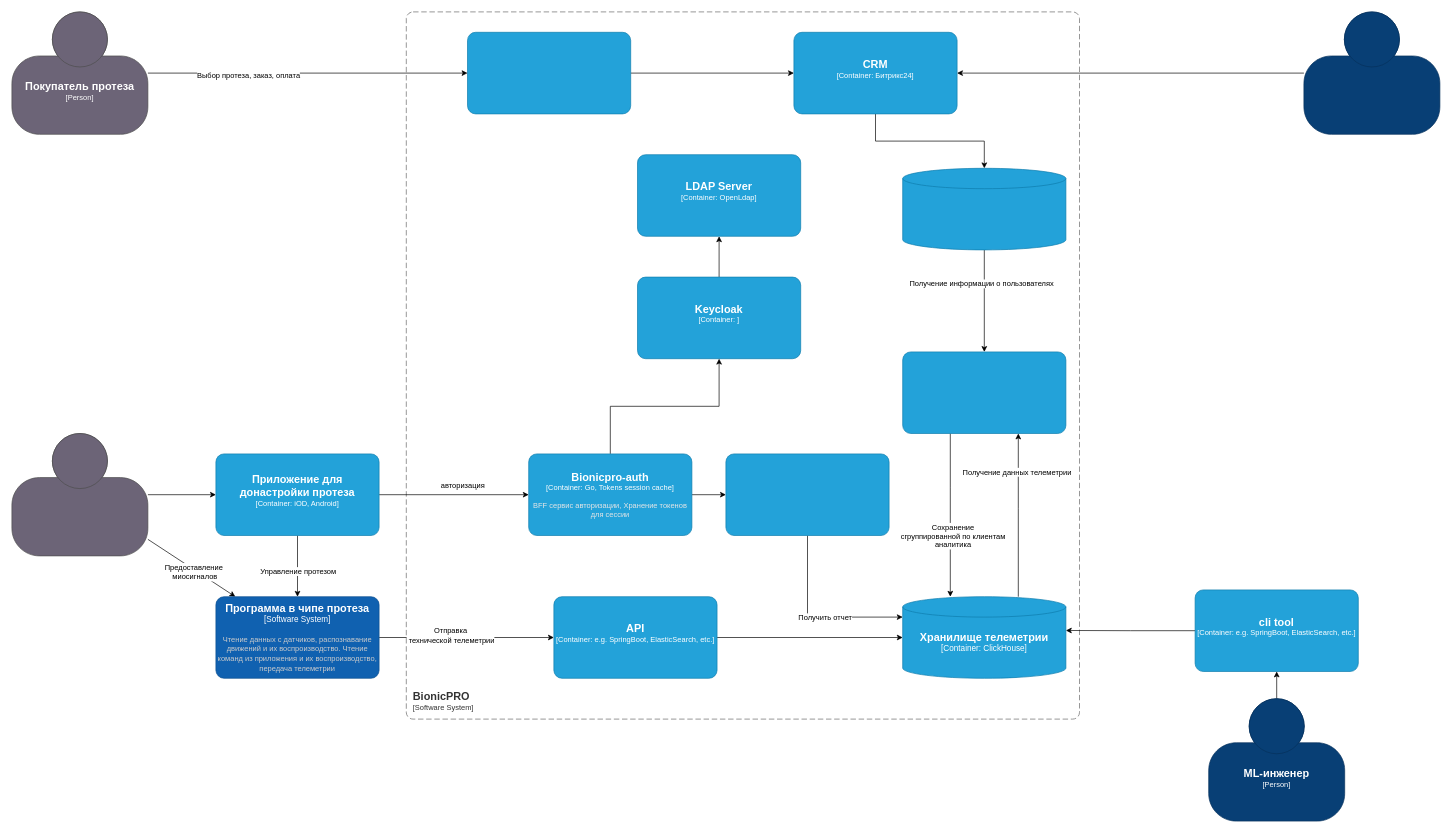
Some shapes in this 1452 by 833 pixel diagram are drawn without their labels. Here are the shapes that lost their labels. From the top down, the box of each, then its label:
(467, 32, 631, 114): Интернет-магазин [Container: Битрикс24]
(1303, 11, 1440, 134): Оператор производства [Person]
(902, 168, 1066, 250): CRM DB [Container: e.g. Oracle Database 12]
(902, 351, 1066, 434): Airflow [Container: ]
(11, 433, 148, 556): Пилот протеза [Person] С этого человека считываются данные
(725, 453, 889, 536): Bionicpro-report [Container: Go, Echo] Get reports
